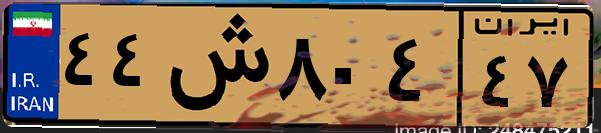0: (330, 28, 385, 110)
4: (385, 28, 445, 110), (57, 26, 110, 100), (475, 38, 525, 113), (110, 28, 158, 98)
7: (525, 38, 570, 115)
8: (270, 28, 330, 110)
ش: (158, 12, 270, 120)
